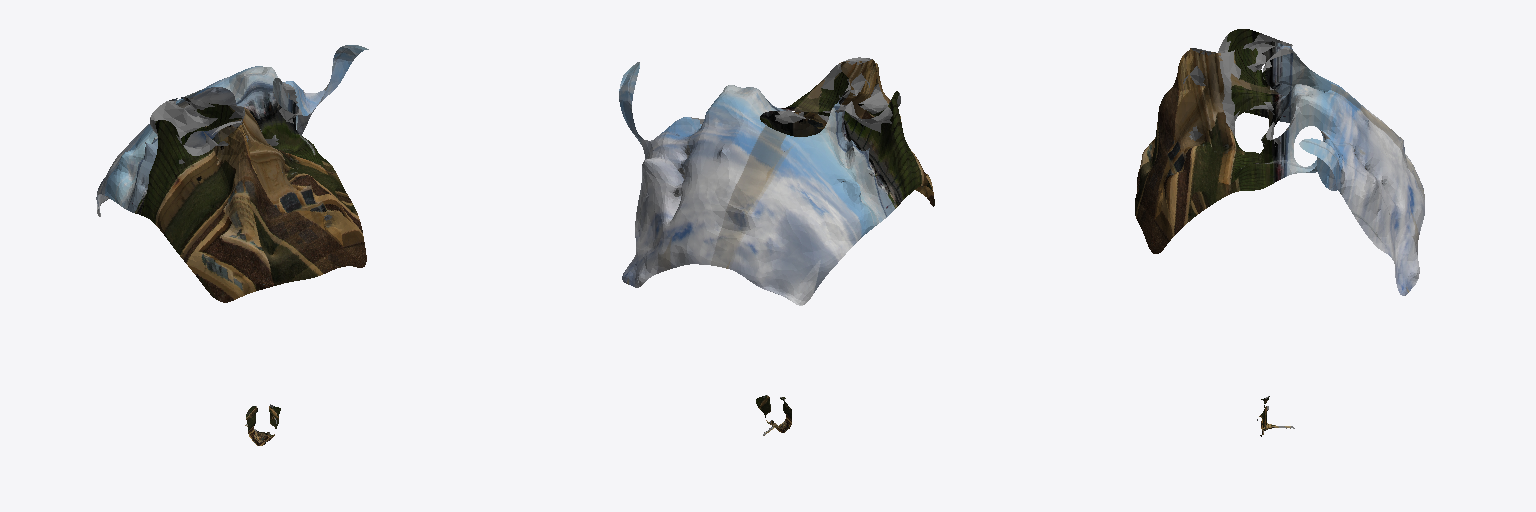
3 renders of one model, left to right at view 1: azimuth 30°, elevation 25°; view 2: azimuth 150°, elevation 25°; view 3: azimuth 270°, elevation 25°, orthographic.
Size of the model in its own units: 21.55 by 29.55 by 21.35.
2 materials, 1 textured.